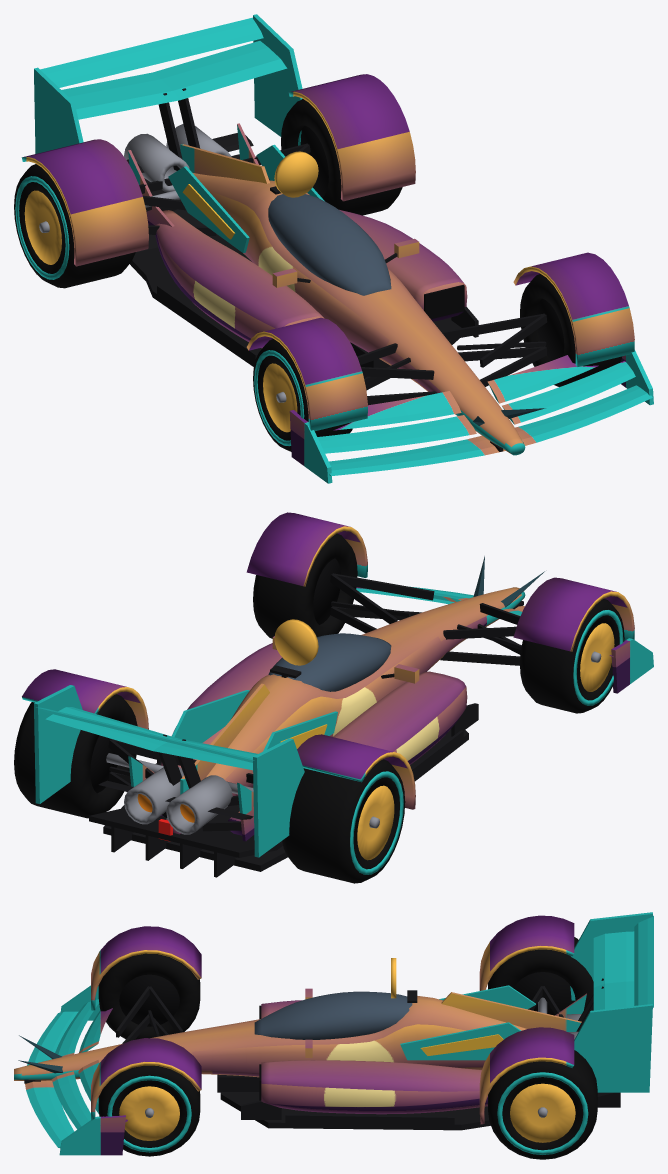
The model's file is dunes_c.fbx.
3 renders of one model, top to bottom at view 1: azimuth 30°, elevation 25°; view 2: azimuth 150°, elevation 25°; view 3: azimuth 270°, elevation 25°, orthographic. The views are drawn at different scales.
Parts seen in each view (by area): view 1: Body, Trim, Glass, Wheel_RL, Wheel_FL, Wheel_RR, Wheel_FR, Acc, Glow; view 2: Body, Trim, Wheel_RL, Wheel_FL, Wheel_RR, Wheel_FR, Glass, Acc, Glow; view 3: Body, Wheel_RR, Trim, Wheel_FR, Wheel_FL, Glass, Wheel_RL, Acc.
Part boxes in pixels (x1=…): Body: x1=21, y1=14, x2=653, y2=483; Trim: x1=124, y1=88, x2=547, y2=451; Glass: x1=268, y1=194, x2=391, y2=295; Wheel_RL: x1=14, y1=164, x2=135, y2=288; Wheel_FL: x1=253, y1=339, x2=352, y2=451; Wheel_RR: x1=281, y1=99, x2=402, y2=215; Wheel_FR: x1=520, y1=274, x2=622, y2=386; Acc: x1=168, y1=144, x2=545, y2=425; Glow: x1=274, y1=151, x2=318, y2=197; Body: x1=22, y1=512, x2=653, y2=857; Trim: x1=89, y1=573, x2=523, y2=877; Wheel_RL: x1=282, y1=759, x2=405, y2=883; Wheel_FL: x1=520, y1=598, x2=624, y2=713; Wheel_RR: x1=14, y1=694, x2=137, y2=818; Wheel_FR: x1=253, y1=533, x2=357, y2=638; Glass: x1=268, y1=633, x2=391, y2=691; Acc: x1=172, y1=556, x2=544, y2=751; Glow: x1=137, y1=619, x2=318, y2=841; Body: x1=14, y1=912, x2=653, y2=1155; Wheel_RR: x1=488, y1=1050, x2=597, y2=1159; Trim: x1=24, y1=978, x2=620, y2=1130; Wheel_FR: x1=98, y1=1065, x2=200, y2=1156; Wheel_FL: x1=98, y1=953, x2=200, y2=1039; Glass: x1=254, y1=991, x2=412, y2=1039; Wheel_RL: x1=488, y1=937, x2=593, y2=1015; Acc: x1=18, y1=985, x2=535, y2=1073.
Bounding box in the file's own units: 9.91 × 4.38 × 18.88.
5 materials, 1 textured.
